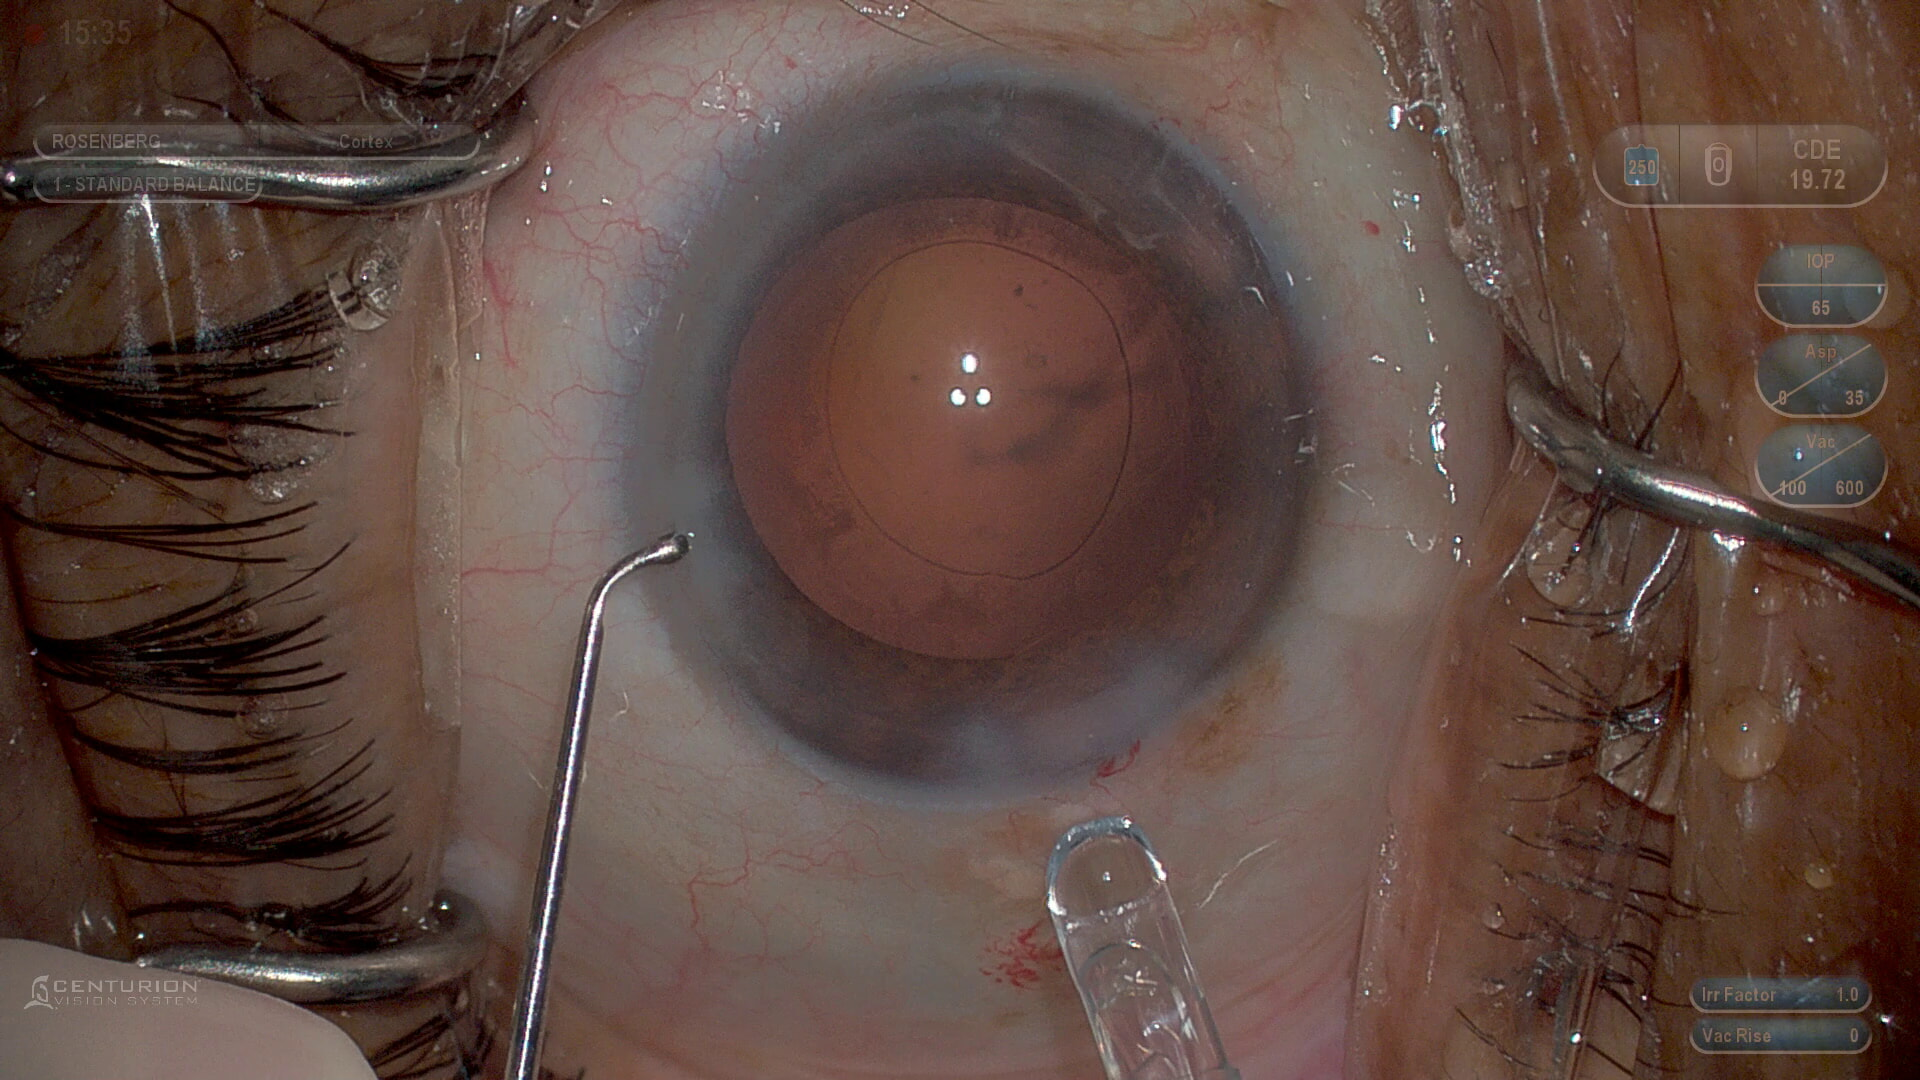iris: (633, 97, 1311, 785)
pupil: (727, 189, 1211, 661)
